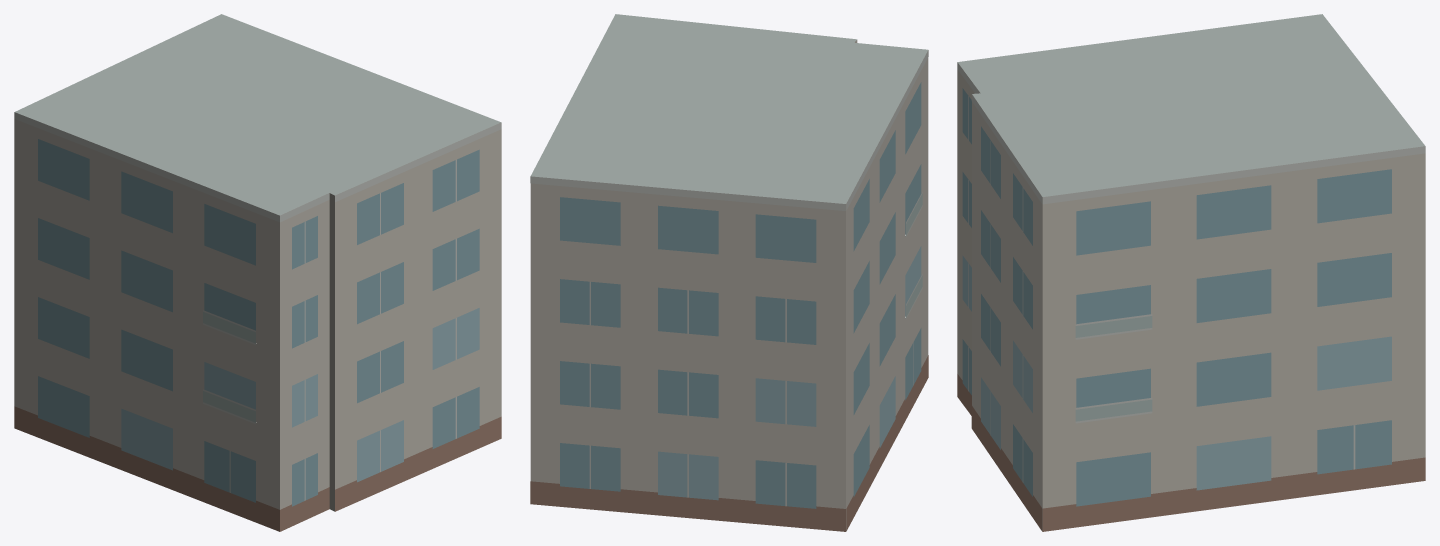
File: survey-upis-32702835.glb
The picture shows the model from 3 angles, left to right: view 1: azimuth 30°, elevation 25°; view 2: azimuth 150°, elevation 25°; view 3: azimuth 270°, elevation 25°; orthographic projection. The views are drawn at different scales.
Visible parts, largest first — view 1: survey-upis-32702835.tmp; view 2: survey-upis-32702835.tmp; view 3: survey-upis-32702835.tmp.
Part boxes in pixels (left/top/right/bottom): survey-upis-32702835.tmp: left=14, top=14, right=501, bottom=531; survey-upis-32702835.tmp: left=530, top=14, right=928, bottom=531; survey-upis-32702835.tmp: left=957, top=14, right=1425, bottom=531.
Bounding box in the file's own units: 13.28 × 11.3 × 14.34.
